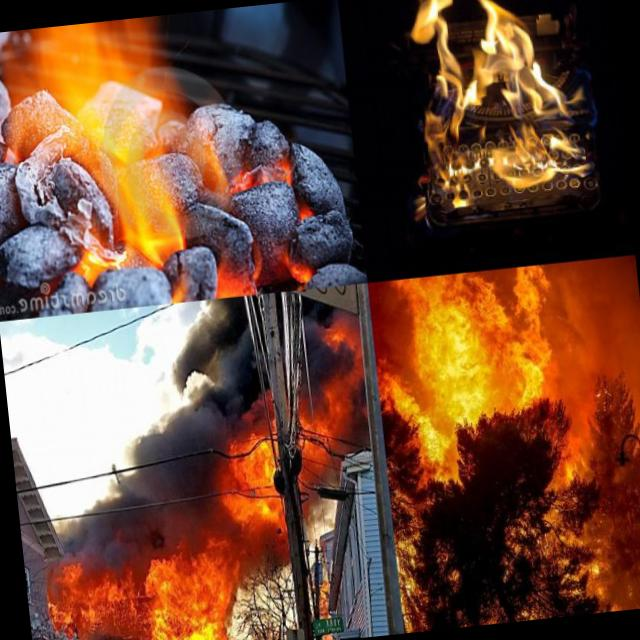fire: (3, 2, 322, 316), (393, 0, 606, 225), (367, 263, 573, 457), (217, 387, 346, 524), (136, 539, 243, 640), (42, 555, 144, 636)
smoke: (40, 396, 237, 568), (164, 295, 258, 400)
